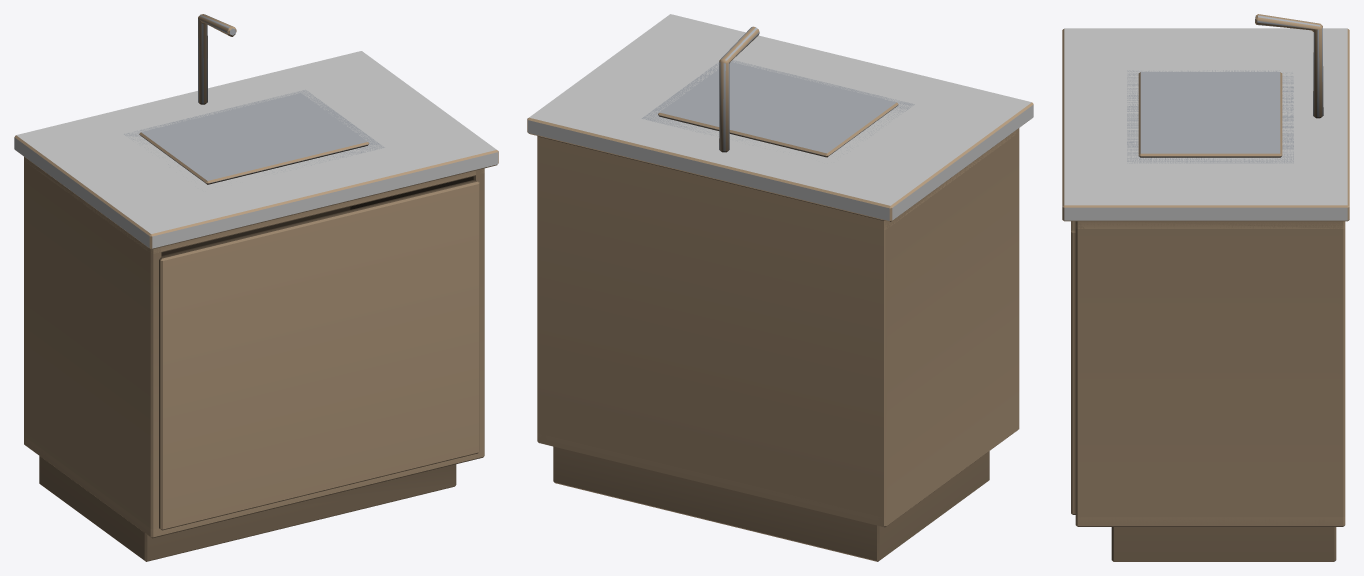
Rendered from kitchen_sink.glb.
3 renders of one model, left to right at view 1: azimuth 30°, elevation 25°; view 2: azimuth 150°, elevation 25°; view 3: azimuth 270°, elevation 25°, orthographic. The views are drawn at different scales.
Visible parts, largest first — view 1: kitchen_sink; view 2: kitchen_sink; view 3: kitchen_sink.
Boxes of the visible parts, bbox=[...] form: kitchen_sink: bbox=[14, 14, 498, 561]; kitchen_sink: bbox=[527, 14, 1033, 561]; kitchen_sink: bbox=[1062, 14, 1349, 561].
Bounding box in the file's own units: 0.94 × 1.15 × 0.64.
